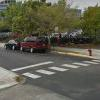Crosswalk: (13, 57, 88, 80)
